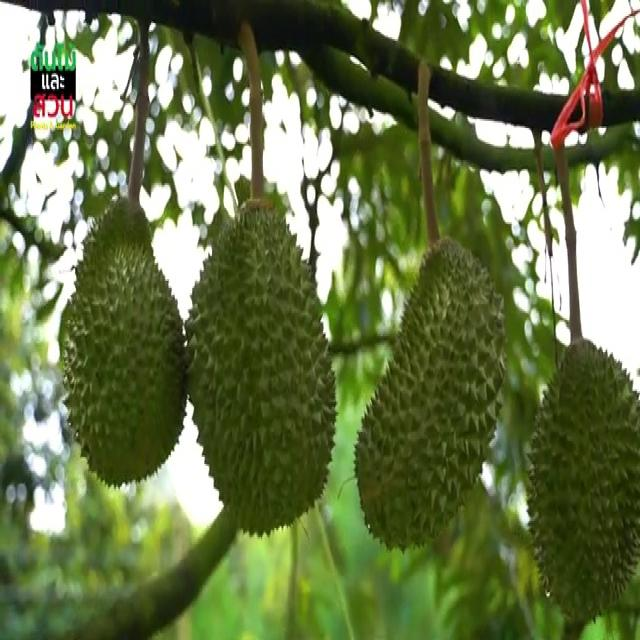durian: (183, 192, 339, 543), (352, 233, 508, 558), (59, 199, 191, 492), (524, 340, 639, 633)
